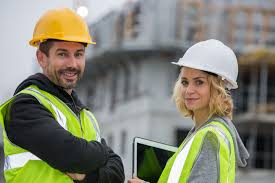helmet: (176, 38, 242, 71), (30, 11, 94, 44)
vest: (2, 90, 111, 181), (170, 124, 236, 182)
